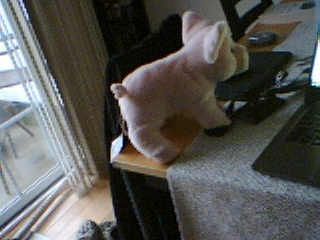piggy: (108, 10, 250, 167)
